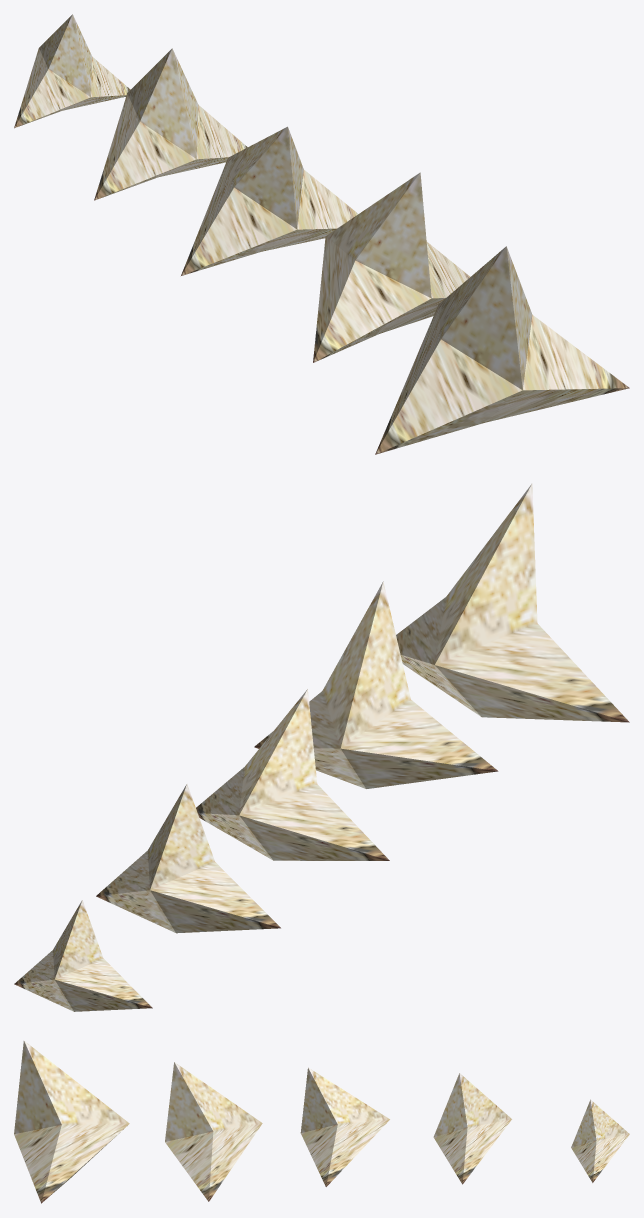
File: poi_tato_skel_grtr_krayt_spine_s03_l2.fbx
3 renders of one model, top to bottom at view 1: azimuth 30°, elevation 25°; view 2: azimuth 150°, elevation 25°; view 3: azimuth 270°, elevation 25°, orthographic. The views are drawn at different scales.
Visible parts, largest first — view 1: mesh_node; view 2: mesh_node; view 3: mesh_node.
Boxes of the visible parts, x1,y1,x2,y2 form: mesh_node: [14, 14, 629, 454]; mesh_node: [14, 483, 629, 1011]; mesh_node: [14, 1041, 629, 1203].
Bounding box in the file's own units: 1.36 × 1.07 × 4.48.
1 material, 1 textured.
